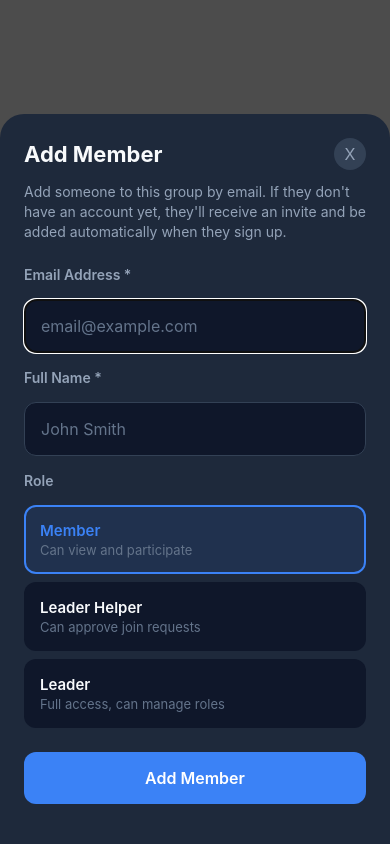
Test: AddPlaceholderModal › should show error when email is empty
# Get the button (second element with "Add Member" text)
Click the text "Add Member" below "Full access, can manage roles".
click(195, 778)  # box [145,768,245,788]
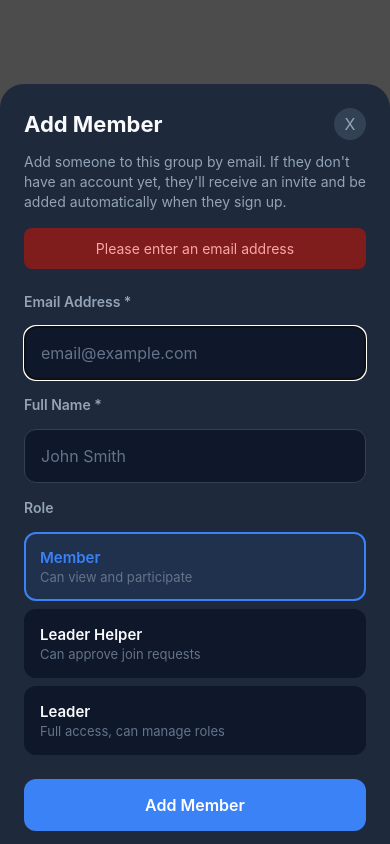
Result: the text "Please enter an email address" is shown at [96,240,294,257]
